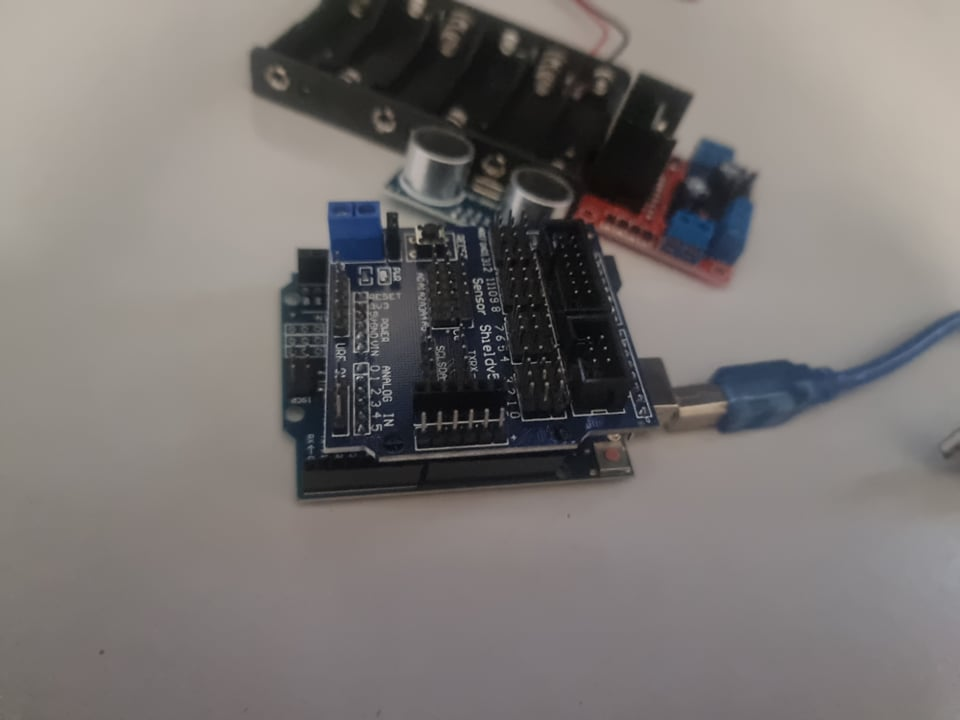5V EXPANSION: (321, 199, 667, 445)
BATTERY BOX: (240, 4, 604, 178)
MOTOR: (609, 64, 766, 286)
SENSOR: (389, 129, 576, 239)
